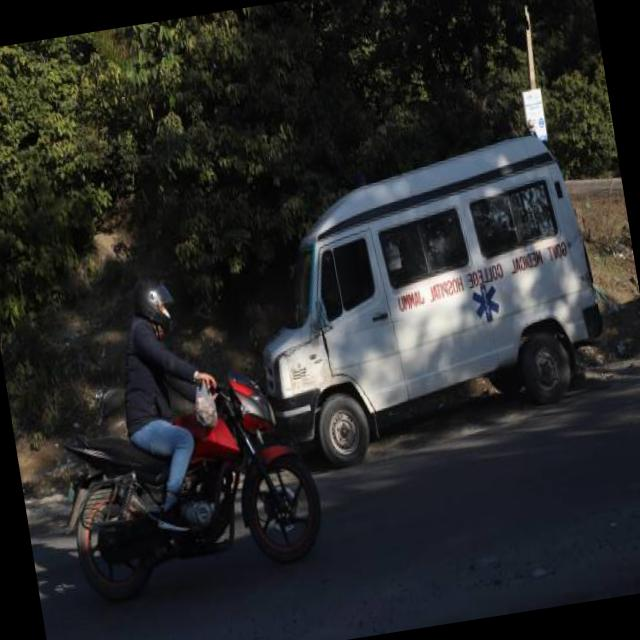ambulance: (229, 111, 622, 480)
